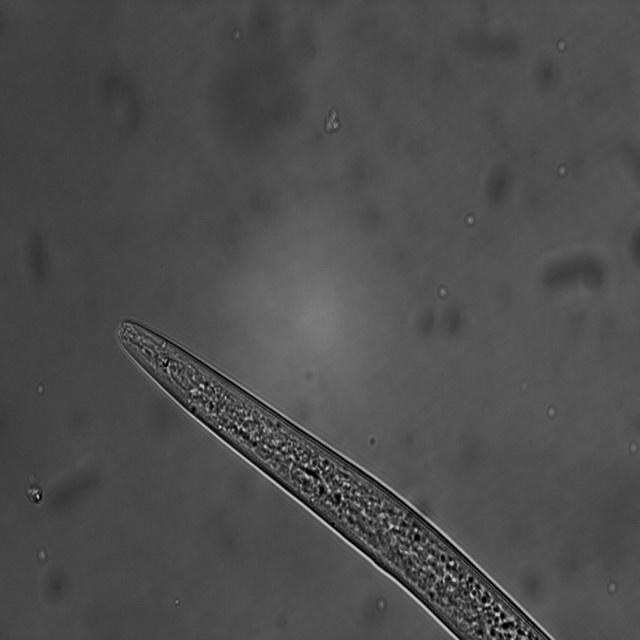Meloidogyne: (111, 315, 557, 640)
